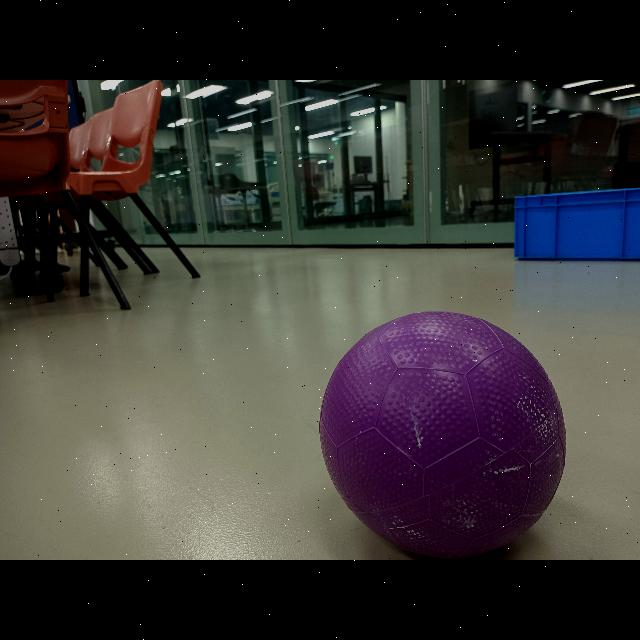P: (320, 310, 570, 560)
